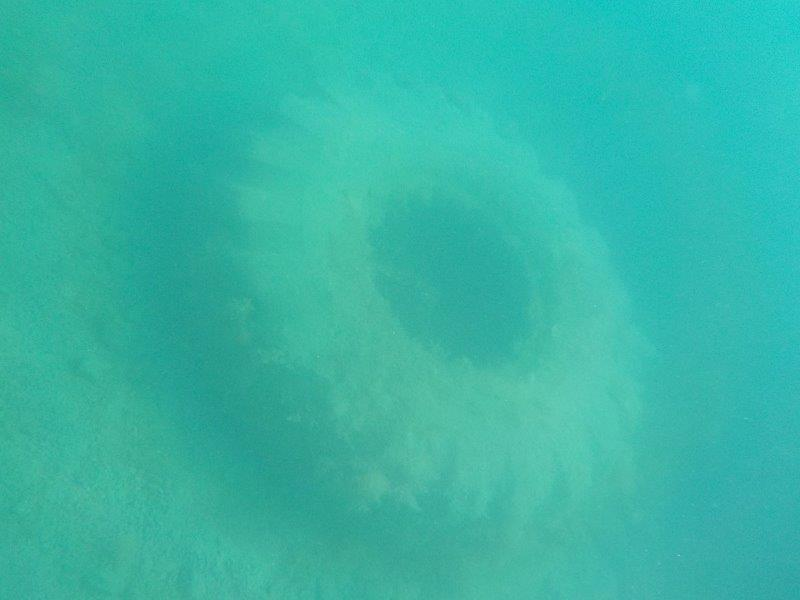tire: (180, 57, 659, 566)
